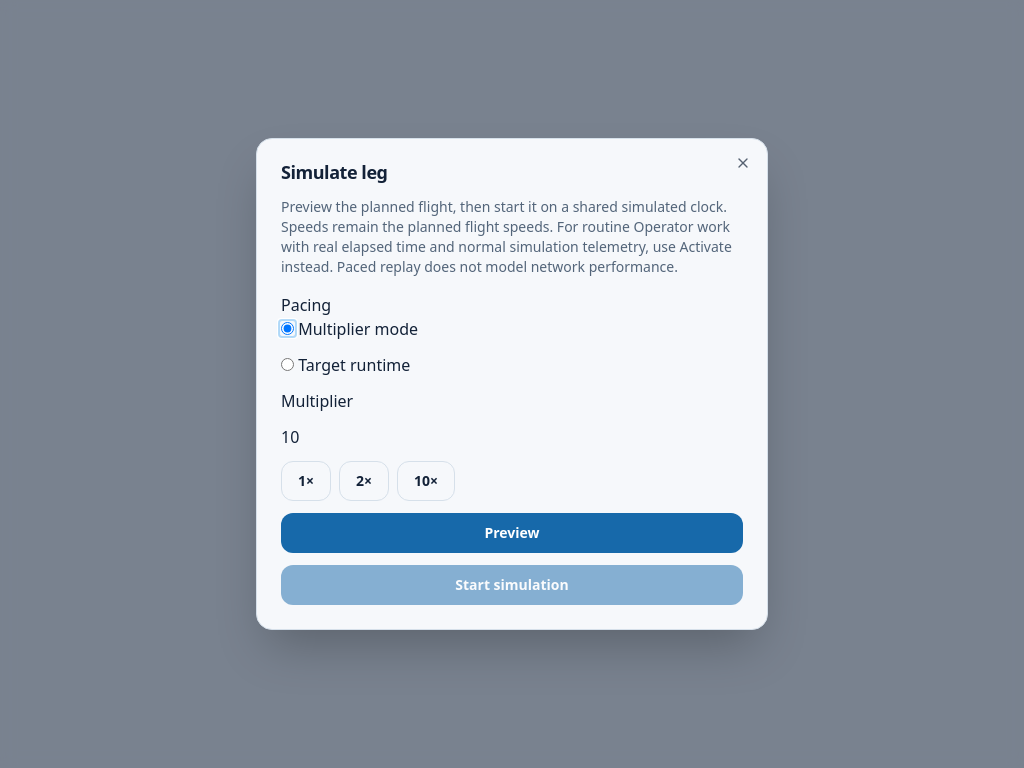
Scenario: shows labeled field errors for out-of-range values
Replace the text in the number field labelled "Multiplier" with "1001": (512, 437) [281,425,743,449]
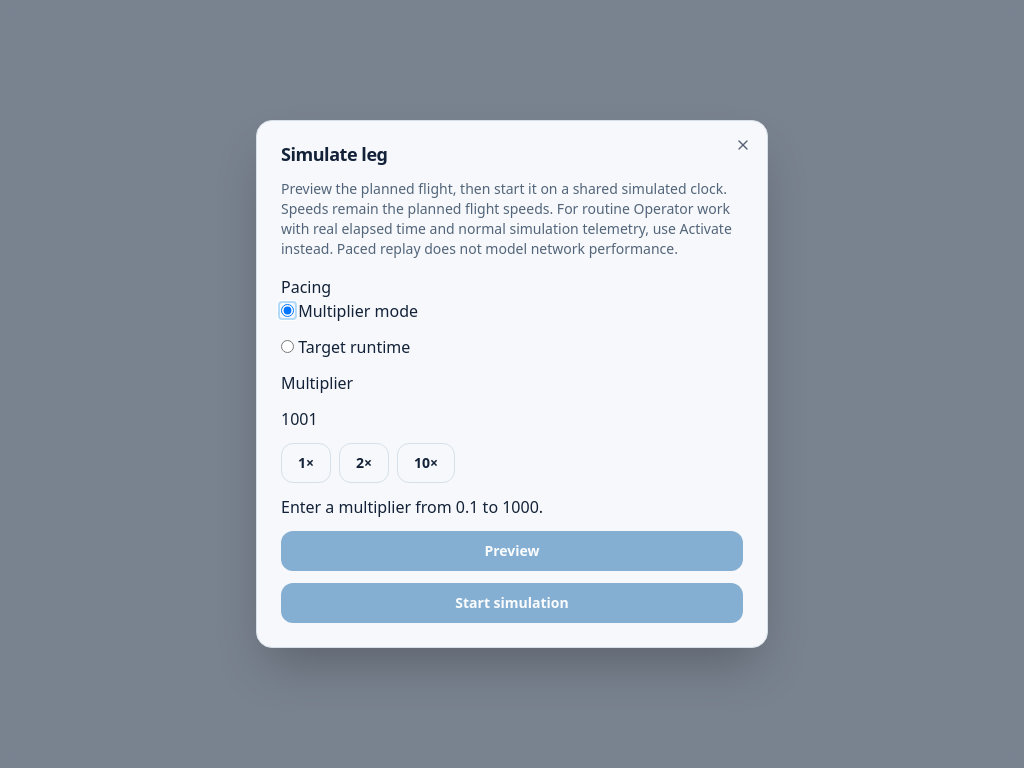
Check: the button "Preview" is disabled, box [281,531,743,571]
